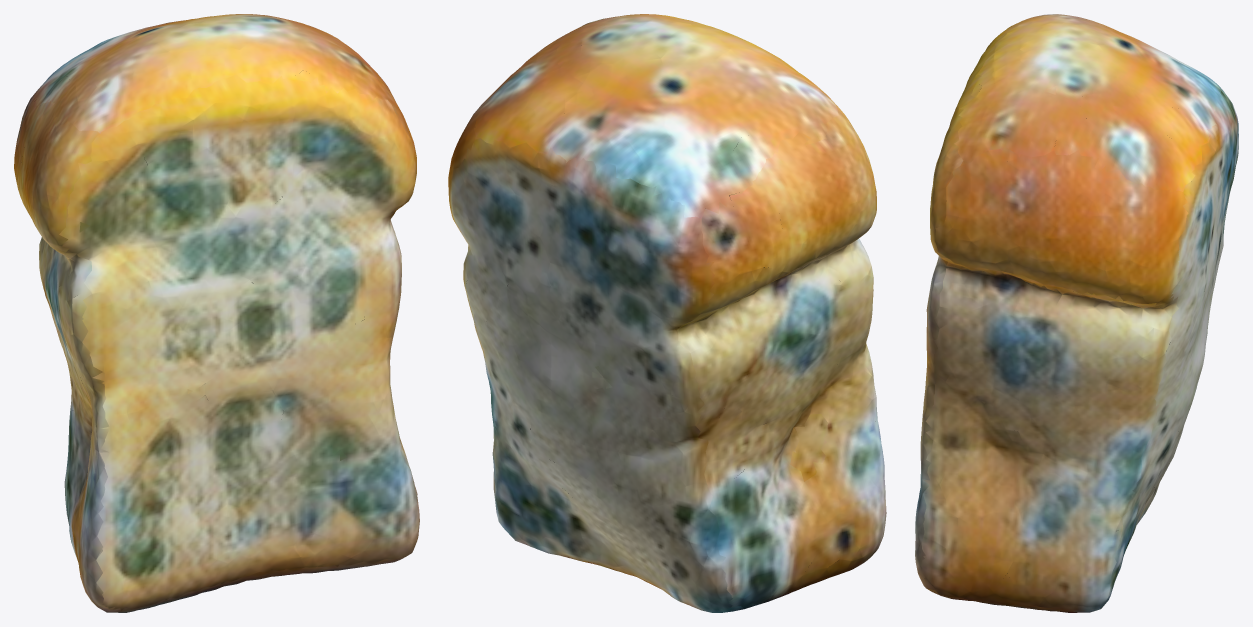
File: moldy_bread.glb
The picture shows the model from 3 angles, left to right: view 1: azimuth 30°, elevation 25°; view 2: azimuth 150°, elevation 25°; view 3: azimuth 270°, elevation 25°; orthographic projection. The views are drawn at different scales.
Parts seen in each view (by area): view 1: world; view 2: world; view 3: world.
Part boxes in pixels (<box>): world: <box>14,14,419,612</box>; world: <box>448,14,886,612</box>; world: <box>915,14,1238,612</box>.
Bounding box in the file's own units: 0.7204 × 1 × 0.5726.
Materials: 1 (1 with a texture image).
